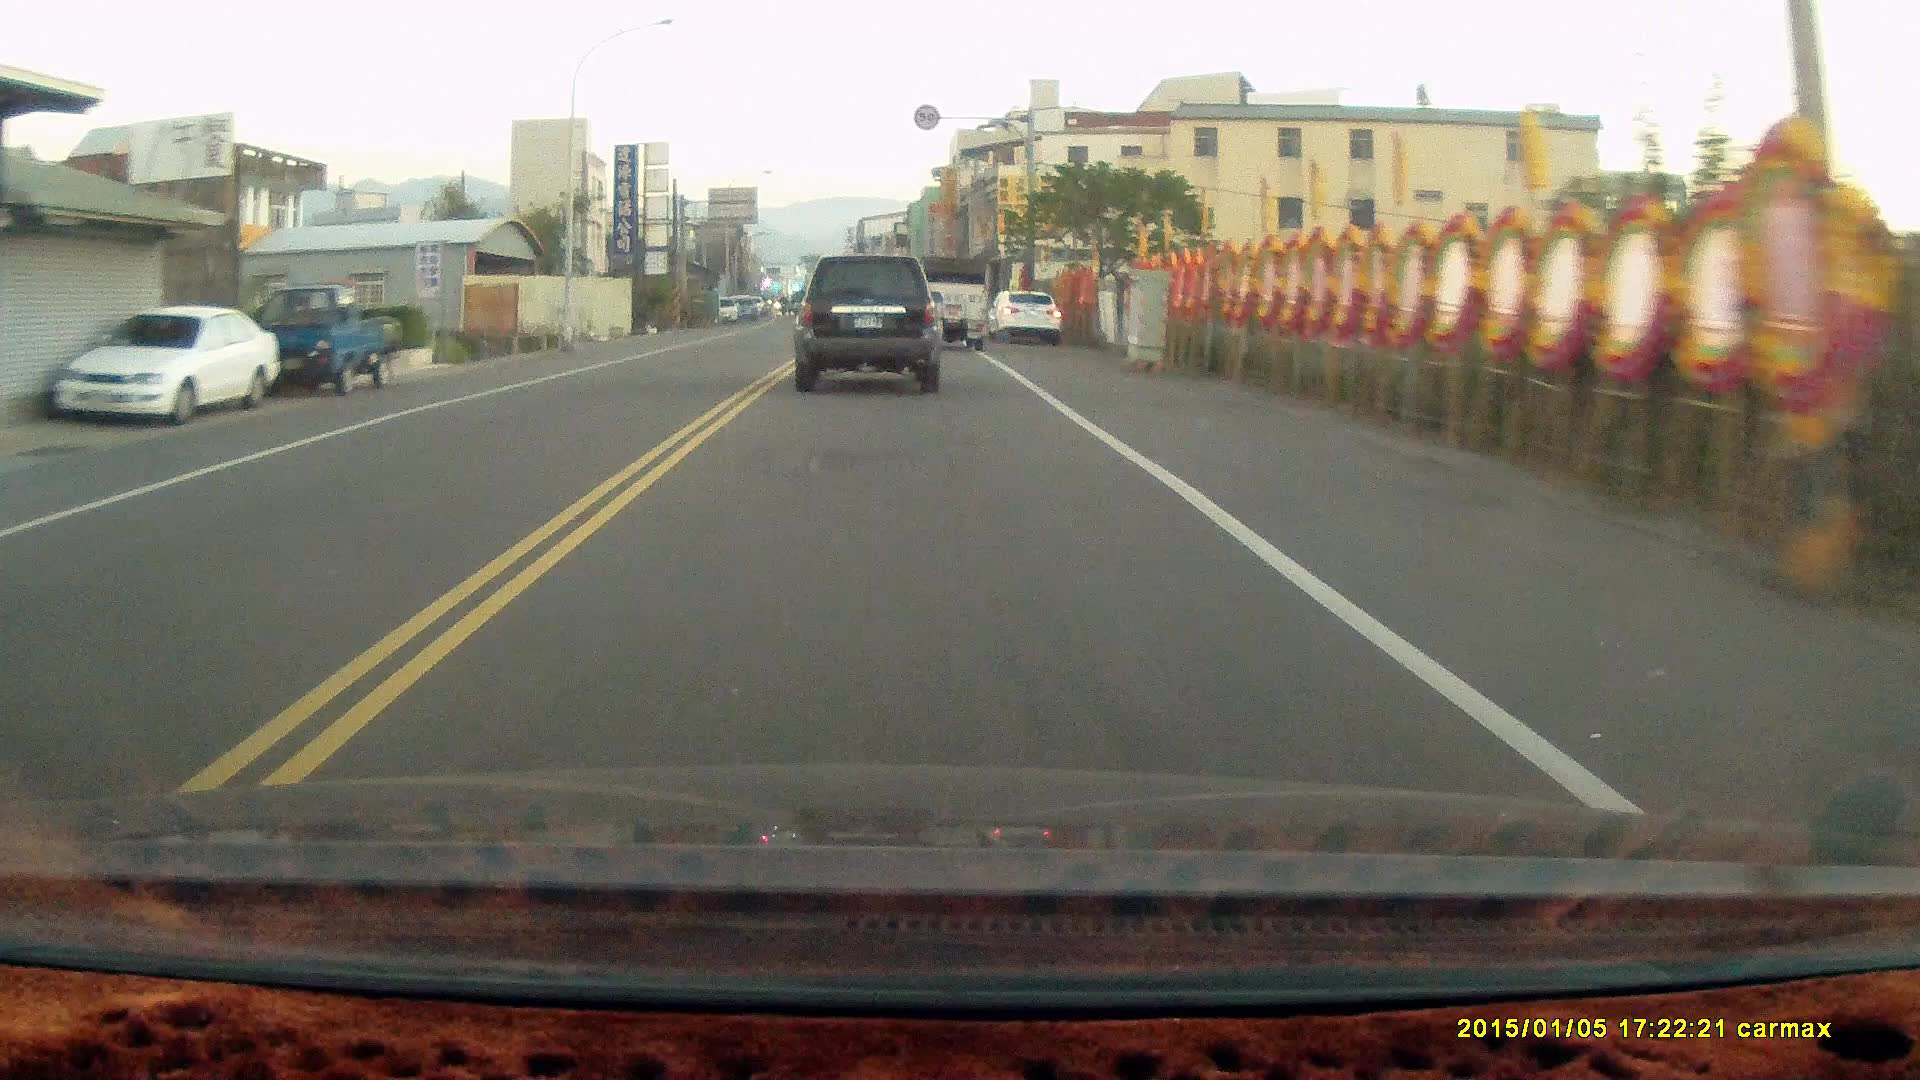vehicle: (54, 306, 278, 422), (796, 255, 945, 396), (241, 285, 409, 400), (914, 252, 992, 352), (996, 286, 1064, 345)
